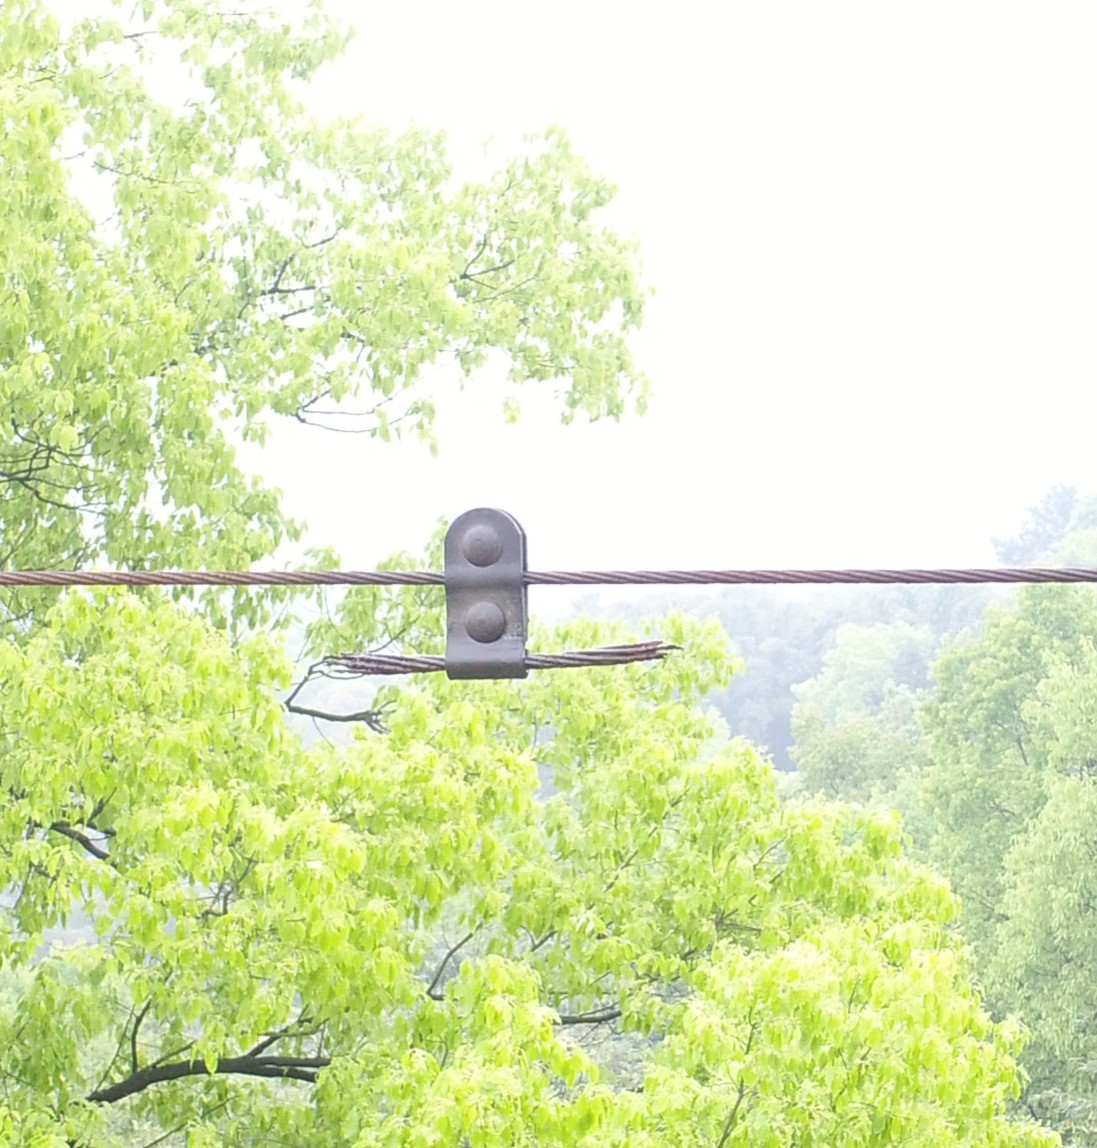Damage of shockproof hammer: (309, 493, 698, 691)
